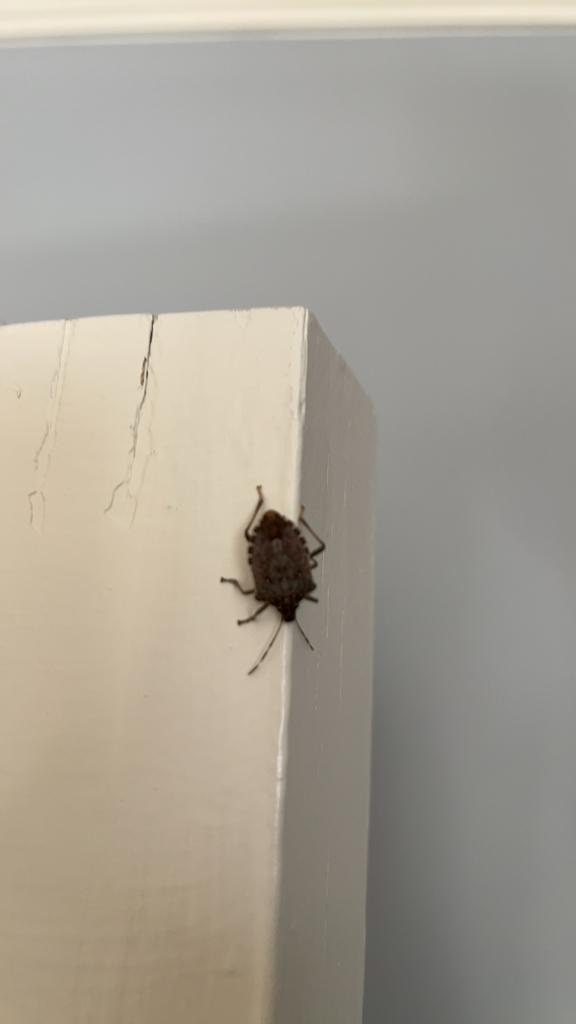stink_bugs: (193, 454, 356, 683)
